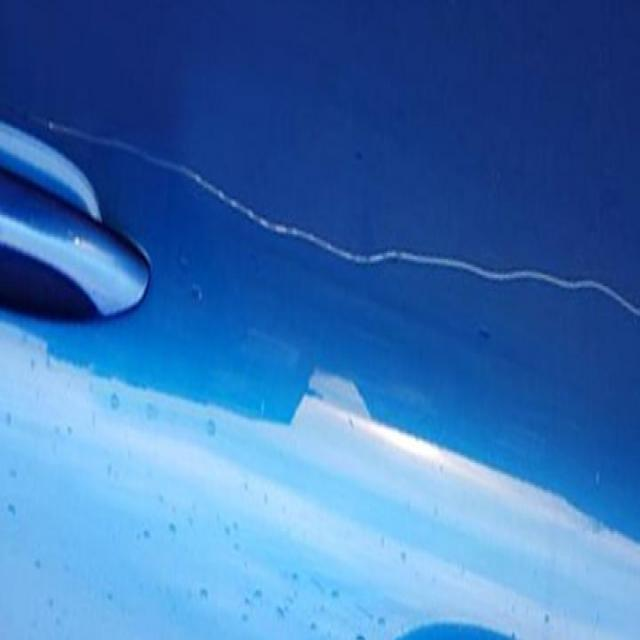scratch: (36, 110, 636, 328)
